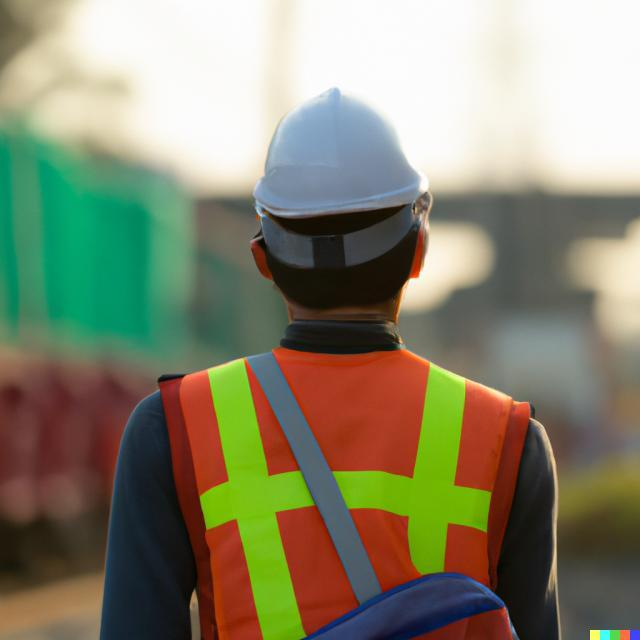reflective_jacket: (144, 335, 544, 639)
safety_helmet: (248, 85, 436, 224)
